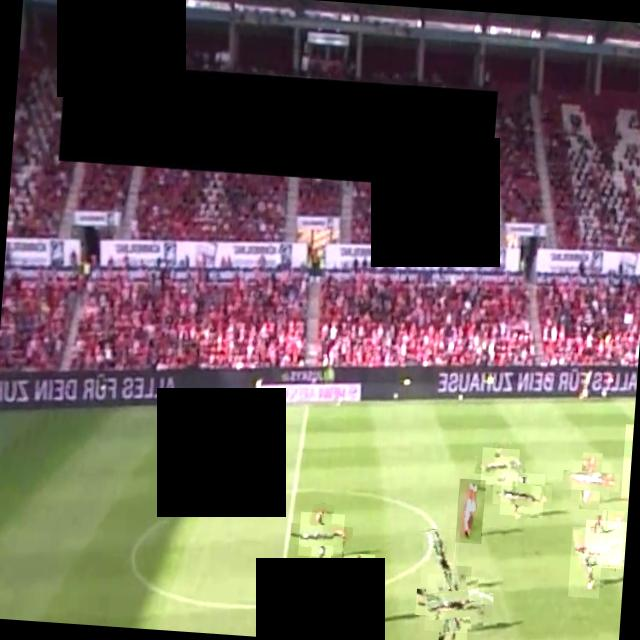soccer-player: (422, 572, 483, 633), (338, 551, 373, 632), (566, 525, 602, 597), (419, 526, 459, 588), (296, 510, 344, 557), (498, 470, 544, 516), (582, 518, 627, 565), (454, 477, 484, 543), (569, 458, 610, 501), (598, 508, 624, 568), (479, 446, 518, 485), (620, 422, 634, 498)
